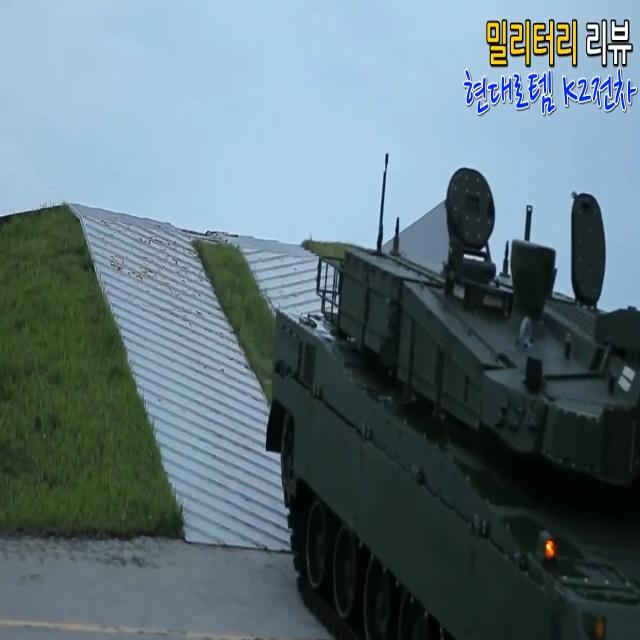korea tank: (263, 149, 640, 640)
